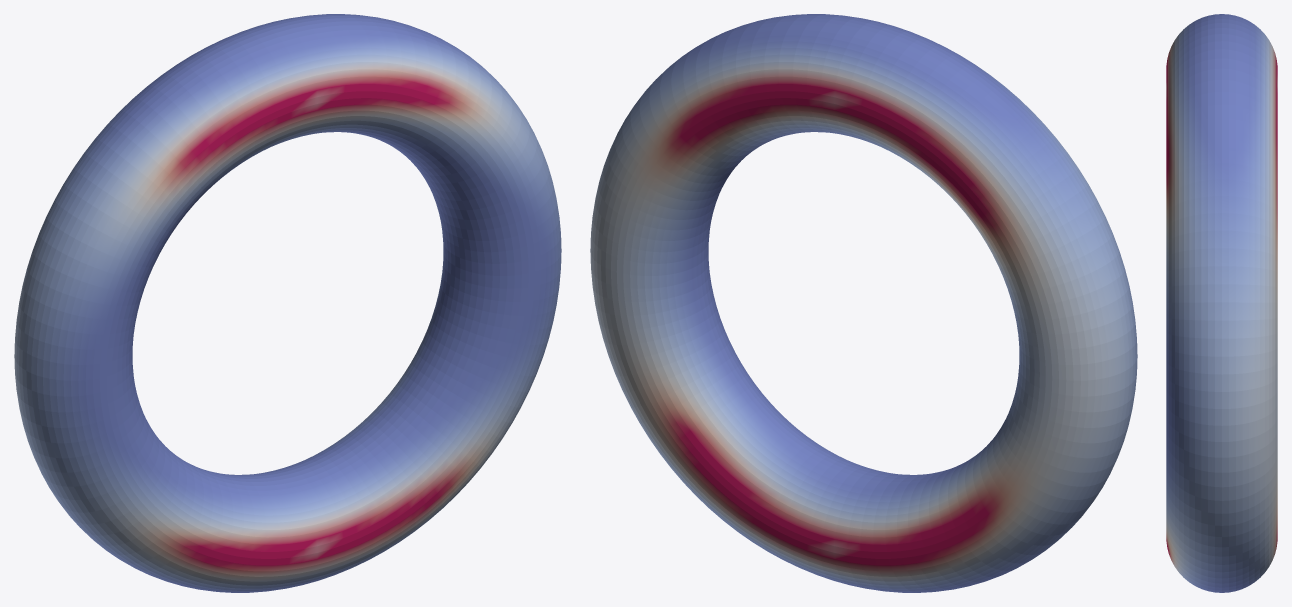
3 renders of one model, left to right at view 1: azimuth 30°, elevation 25°; view 2: azimuth 150°, elevation 25°; view 3: azimuth 270°, elevation 25°, orthographic. The views are drawn at different scales.
Visible parts, largest first — view 1: world; view 2: world; view 3: world.
Part boxes in pixels (bbox=[...]): world: bbox=[14, 14, 561, 592]; world: bbox=[590, 14, 1137, 592]; world: bbox=[1166, 14, 1277, 592].
Bounding box in the file's own units: 21.47 × 21.47 × 4.13.
